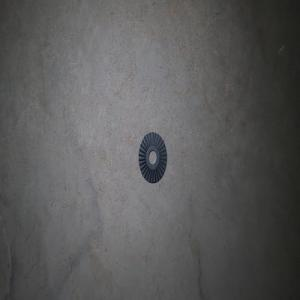Washer: (138, 131, 167, 183)
